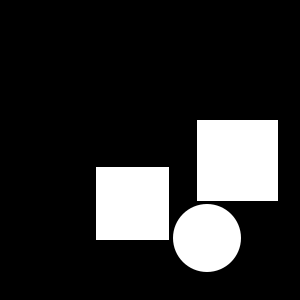circle: (197, 120, 278, 201), (96, 167, 169, 240)
rectangle: (173, 204, 241, 272)
